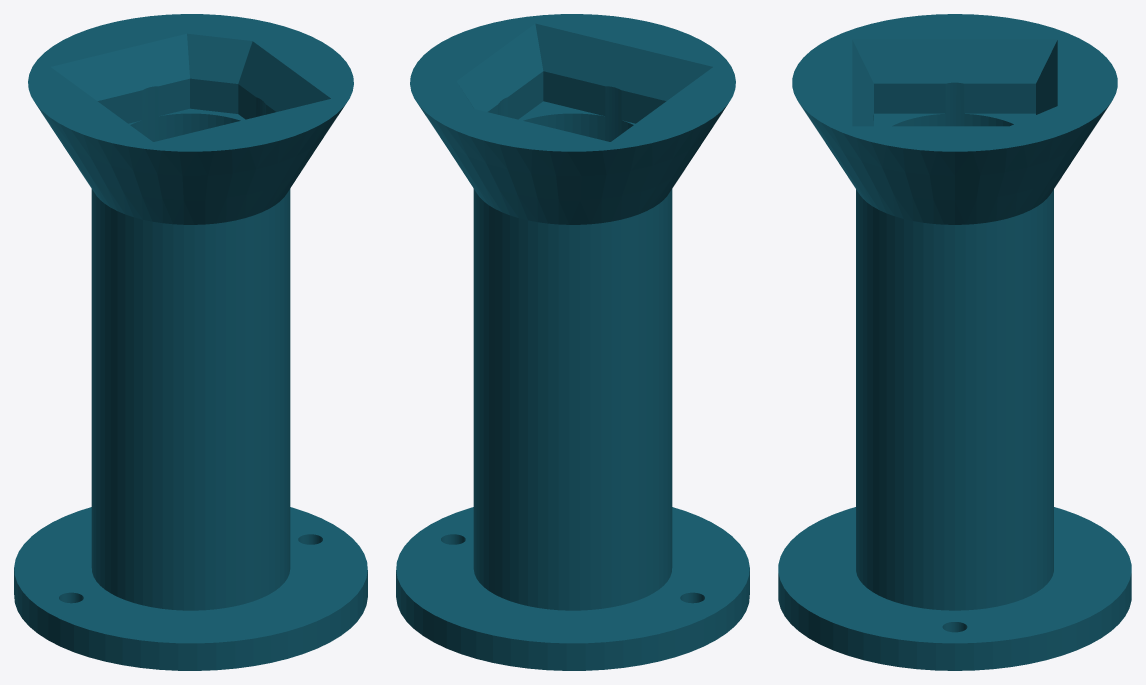
3 renders of one model, left to right at view 1: azimuth 30°, elevation 25°; view 2: azimuth 150°, elevation 25°; view 3: azimuth 270°, elevation 25°, orthographic.
Visible parts, largest first — view 1: dock_node; view 2: dock_node; view 3: dock_node.
Boxes of the visible parts, x1,y1,x2,y2 form: dock_node: [14, 14, 367, 670]; dock_node: [396, 14, 749, 670]; dock_node: [778, 14, 1131, 670].
Bounding box in the file's own units: 0.064 × 0.0639 × 0.1025.
